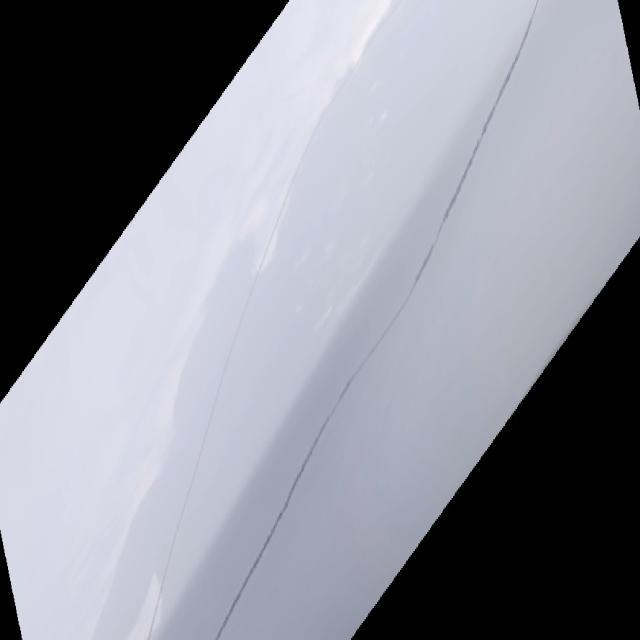crack: (212, 81, 529, 617)
